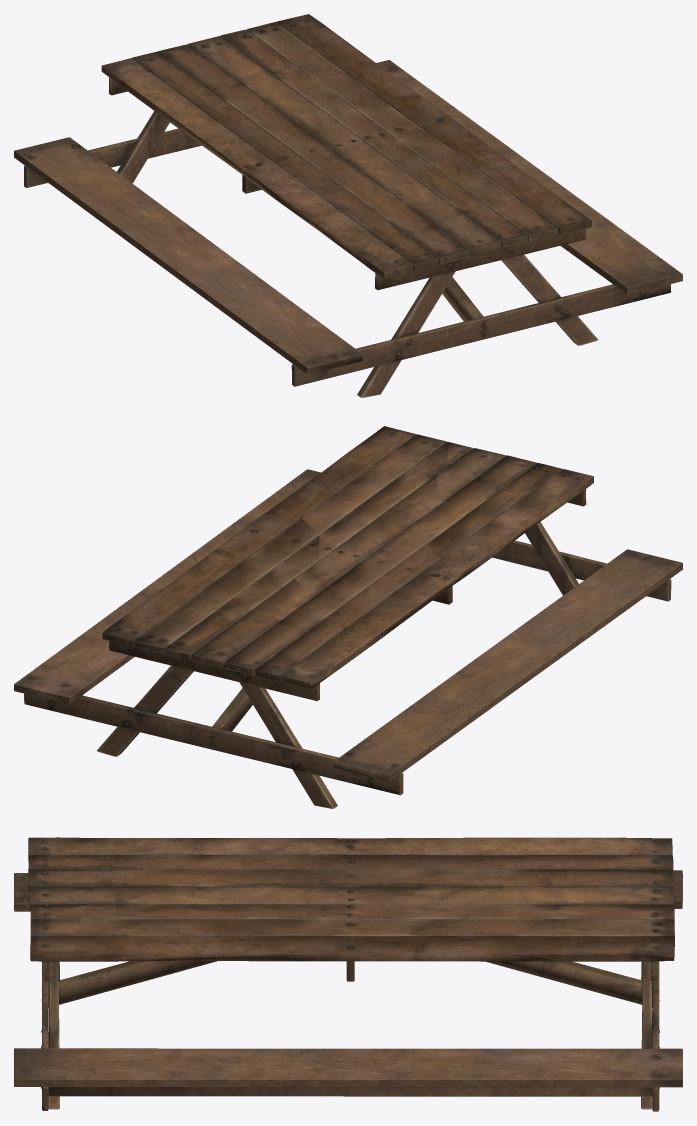
Rendered from wooden_picnic_table.glb.
3 views of the same model, one above another, from view 1: azimuth 30°, elevation 25°; view 2: azimuth 150°, elevation 25°; view 3: azimuth 270°, elevation 25° (orthographic). The views are drawn at different scales.
Parts seen in each view (by area): view 1: wooden_picnic_table; view 2: wooden_picnic_table; view 3: wooden_picnic_table.
Part boxes in pixels (<box>): wooden_picnic_table: <box>14,14,682,397</box>; wooden_picnic_table: <box>14,426,682,808</box>; wooden_picnic_table: <box>14,837,682,1111</box>.
Size of the model in its own units: 2.24 by 0.746 by 3.02.
Materials: 2 (2 with a texture image).
